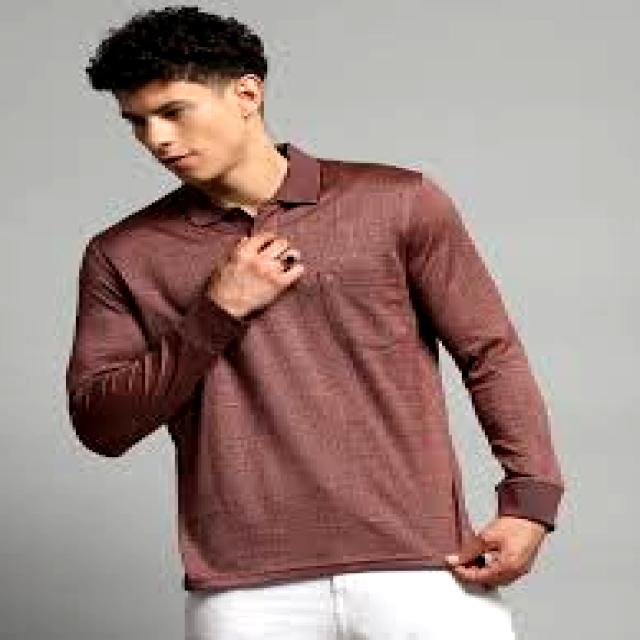face: (94, 8, 270, 185)
lower-wear: (174, 568, 532, 640)
top-wear: (72, 145, 558, 575)
